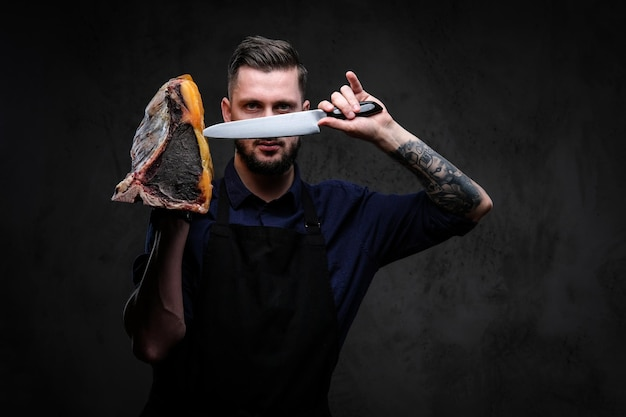knife: (202, 100, 385, 139)
